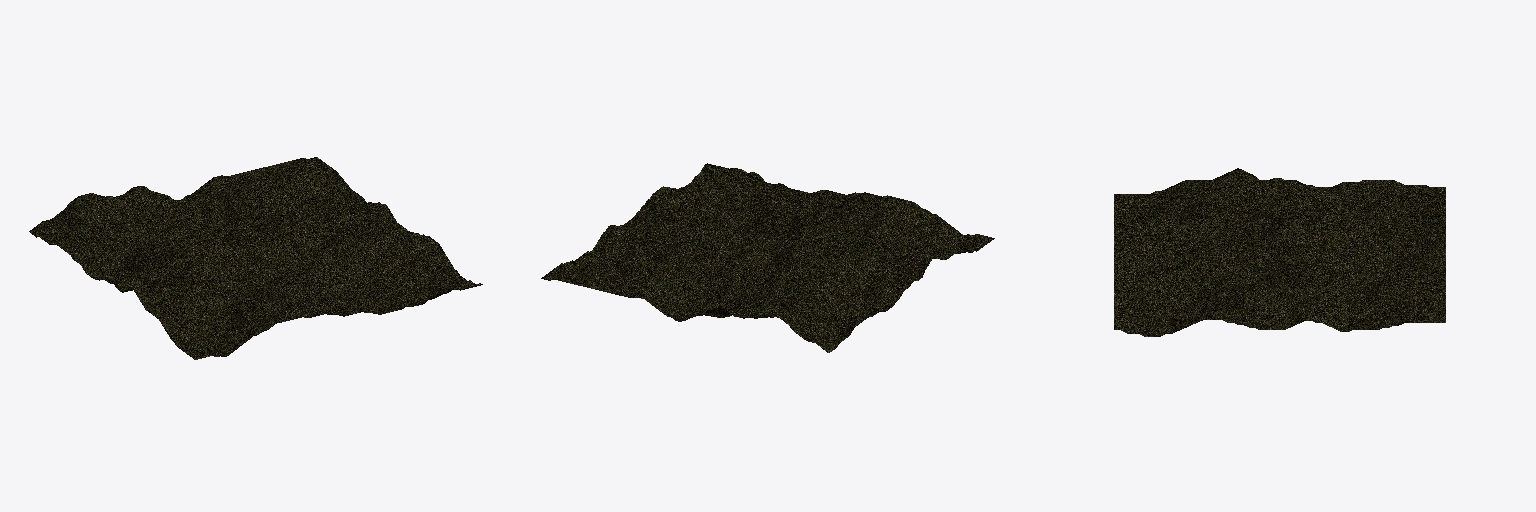
3 renders of one model, left to right at view 1: azimuth 30°, elevation 25°; view 2: azimuth 150°, elevation 25°; view 3: azimuth 270°, elevation 25°, orthographic.
Parts seen in each view (by area): view 1: terrain; view 2: terrain; view 3: terrain.
Part boxes in pixels (x1,y1,x2,y2): terrain: (29,157,482,359); terrain: (541,163,994,352); terrain: (1114,168,1445,336).
Size of the model in its own units: 2048 by 302 by 2049.
Materials: 1 (1 with a texture image).